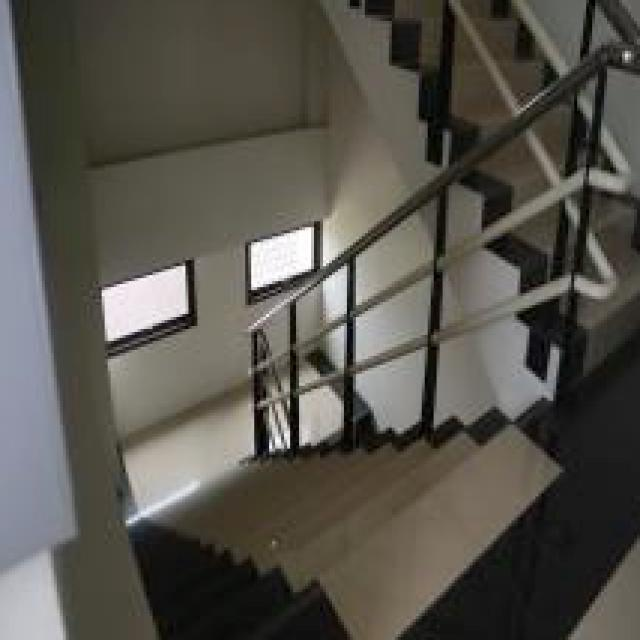downstair: (201, 455, 524, 640)
